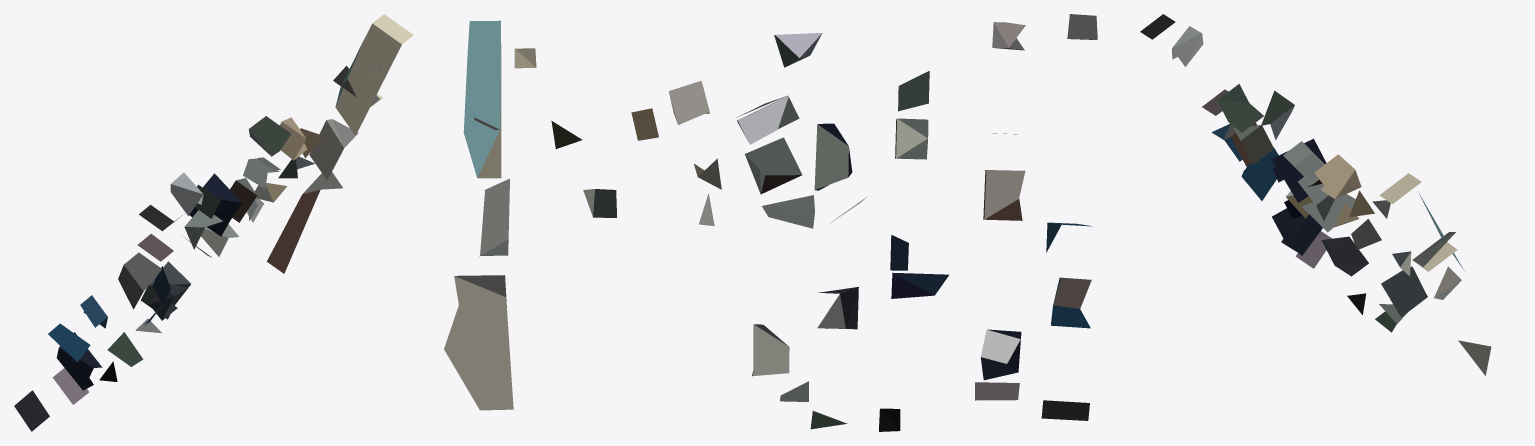
The picture shows the model from 3 angles, left to right: view 1: azimuth 30°, elevation 25°; view 2: azimuth 150°, elevation 25°; view 3: azimuth 270°, elevation 25°; orthographic projection. The views are drawn at different scales.
Size of the model in its own units: 232 by 137 by 174.
